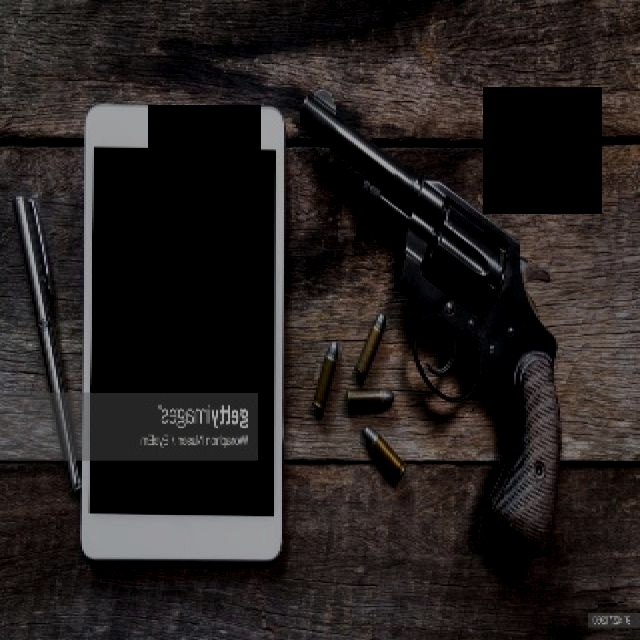gun: (300, 85, 567, 573)
